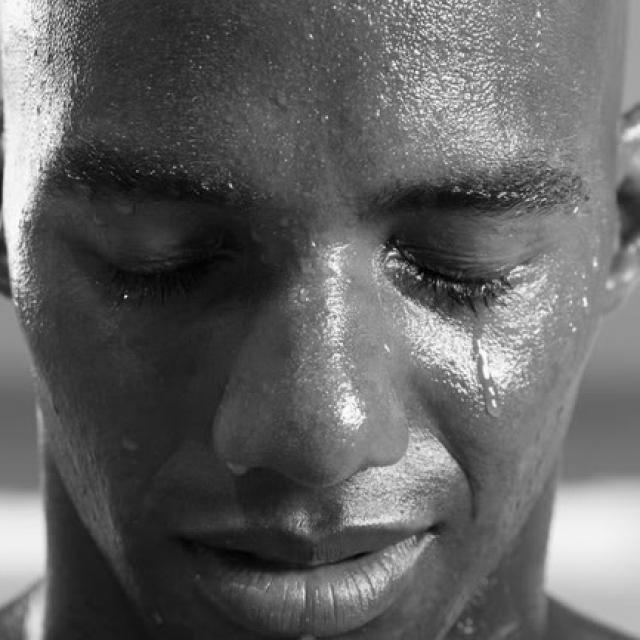real: (0, 15, 640, 610), (2, 202, 594, 322)
